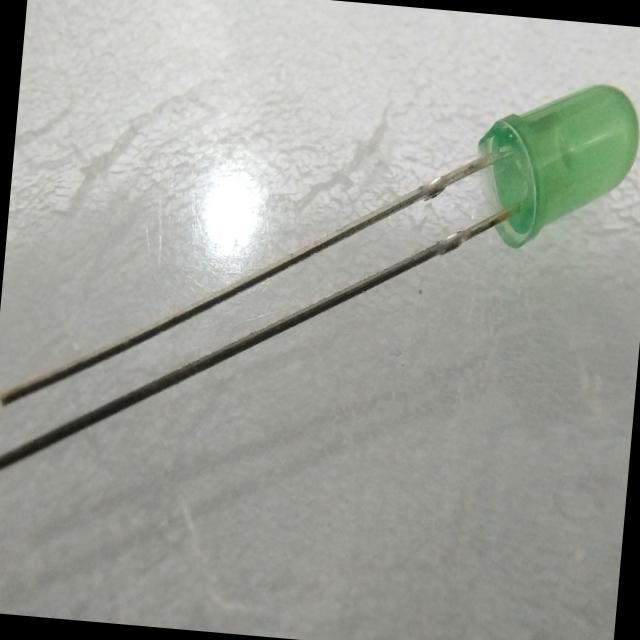green_led: (464, 63, 640, 276)
